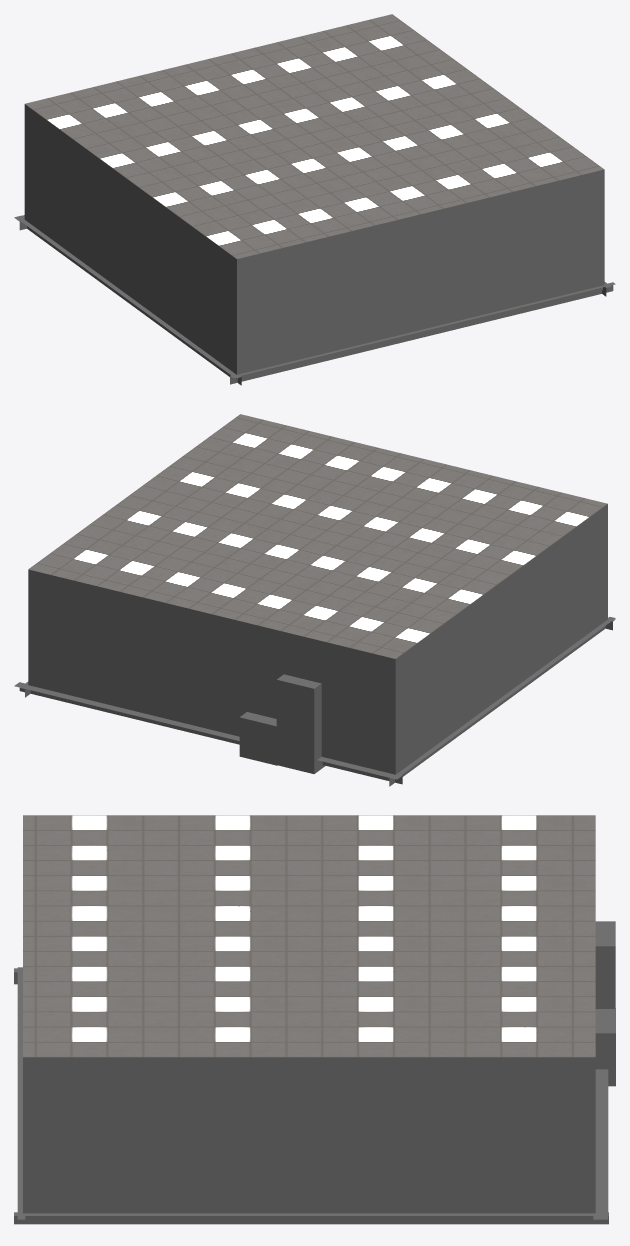
The model's file is indoor_lightmap.dae.
The picture shows the model from 3 angles, top to bottom: view 1: azimuth 30°, elevation 25°; view 2: azimuth 150°, elevation 25°; view 3: azimuth 270°, elevation 25°; orthographic projection. The views are drawn at different scales.
Parts seen in each view (by area): view 1: CeilingTiles, Wall; view 2: CeilingTiles, Wall; view 3: CeilingTiles, Wall.
Part boxes in pixels (left/top/right/bottom): CeilingTiles: left=25, top=14, right=604, bottom=258; Wall: left=14, top=104, right=615, bottom=385; CeilingTiles: left=28, top=414, right=607, bottom=658; Wall: left=14, top=504, right=615, bottom=786; CeilingTiles: left=23, top=815, right=595, bottom=1057; Wall: left=14, top=921, right=615, bottom=1224.
Bounding box in the file's own units: 10.17 × 10.25 × 3.25.
Materials: 3 (3 with a texture image).
